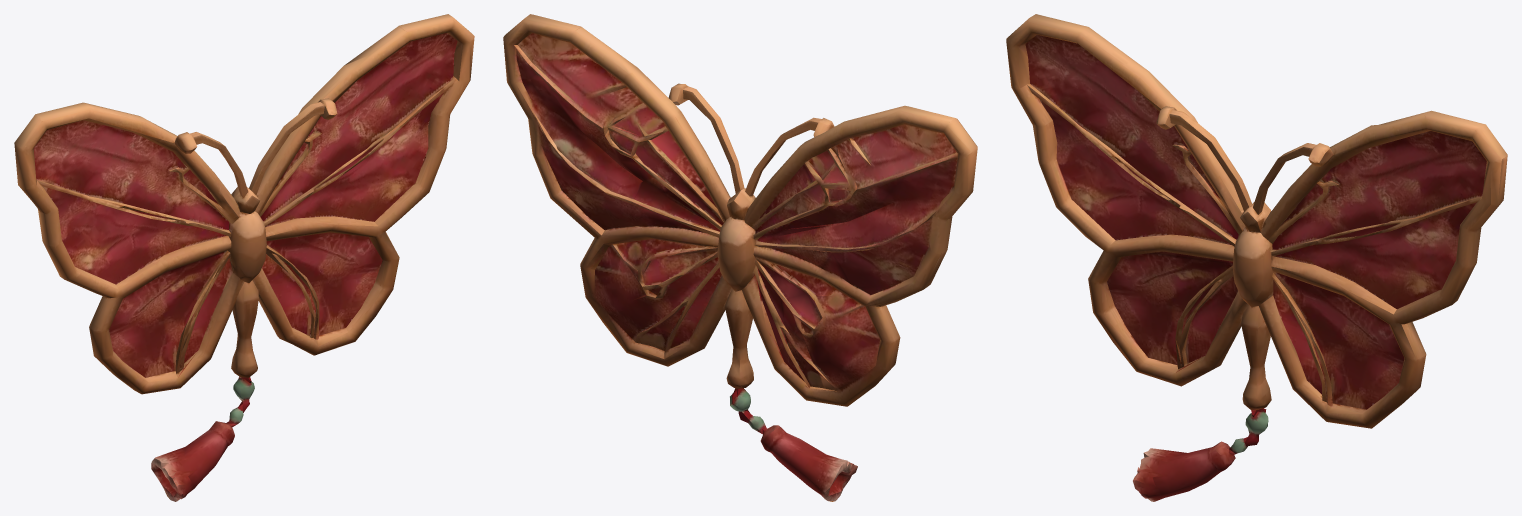
Rendered from 小喬_蝴蝶扇.glb.
3 views of the same model, side by side, from view 1: azimuth 30°, elevation 25°; view 2: azimuth 150°, elevation 25°; view 3: azimuth 330°, elevation 25° (orthographic). The views are drawn at different scales.
Parts seen in each view (by area): view 1: geometry_0; view 2: geometry_0; view 3: geometry_0.
Boxes of the visible parts, x1,y1,x2,y2 form: geometry_0: [14, 14, 474, 501]; geometry_0: [503, 14, 977, 501]; geometry_0: [1006, 14, 1507, 501].
Bounding box in the file's own units: 1 × 0.8548 × 0.1359.
1 material, 1 textured.
